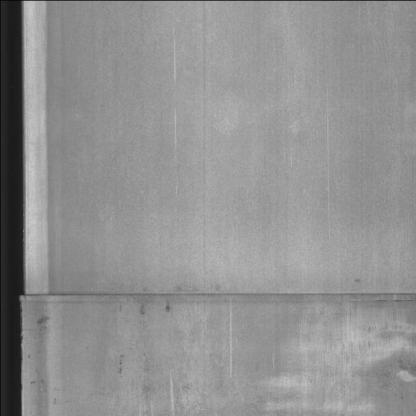welding_line: (12, 273, 415, 317)
